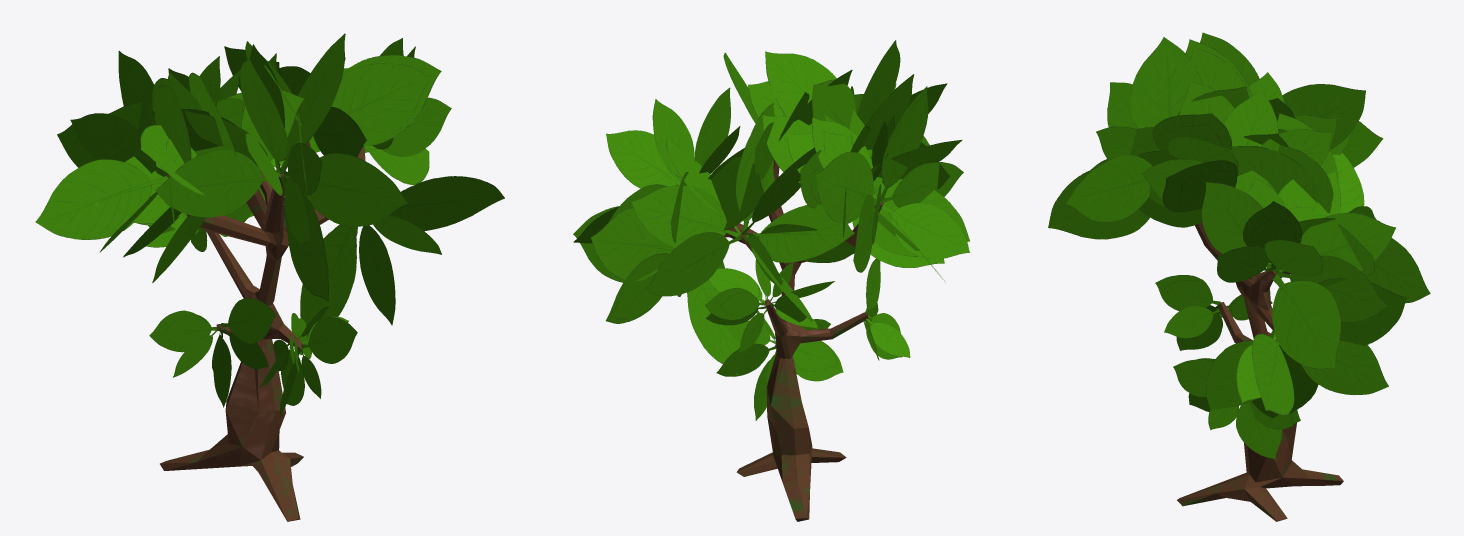
File: Arvore1.fbx
The picture shows the model from 3 angles, left to right: view 1: azimuth 30°, elevation 25°; view 2: azimuth 150°, elevation 25°; view 3: azimuth 270°, elevation 25°; orthographic projection. The views are drawn at different scales.
Parts seen in each view (by area): view 1: ArvoreSavanaFolha1LOD0, ArvoreSavana1_Tronco_LOD0; view 2: ArvoreSavanaFolha1LOD0, ArvoreSavana1_Tronco_LOD0; view 3: ArvoreSavanaFolha1LOD0, ArvoreSavana1_Tronco_LOD0.
Boxes of the visible parts, x1,y1,x2,y2 form: ArvoreSavanaFolha1LOD0: (35,33,504,416); ArvoreSavana1_Tronco_LOD0: (160,141,365,521); ArvoreSavanaFolha1LOD0: (573,40,969,420); ArvoreSavana1_Tronco_LOD0: (724,159,883,521); ArvoreSavanaFolha1LOD0: (1048,32,1430,459); ArvoreSavana1_Tronco_LOD0: (1177,222,1343,521).
Size of the model in its own units: 1111 by 1143 by 996.
2 materials, 2 textured.
